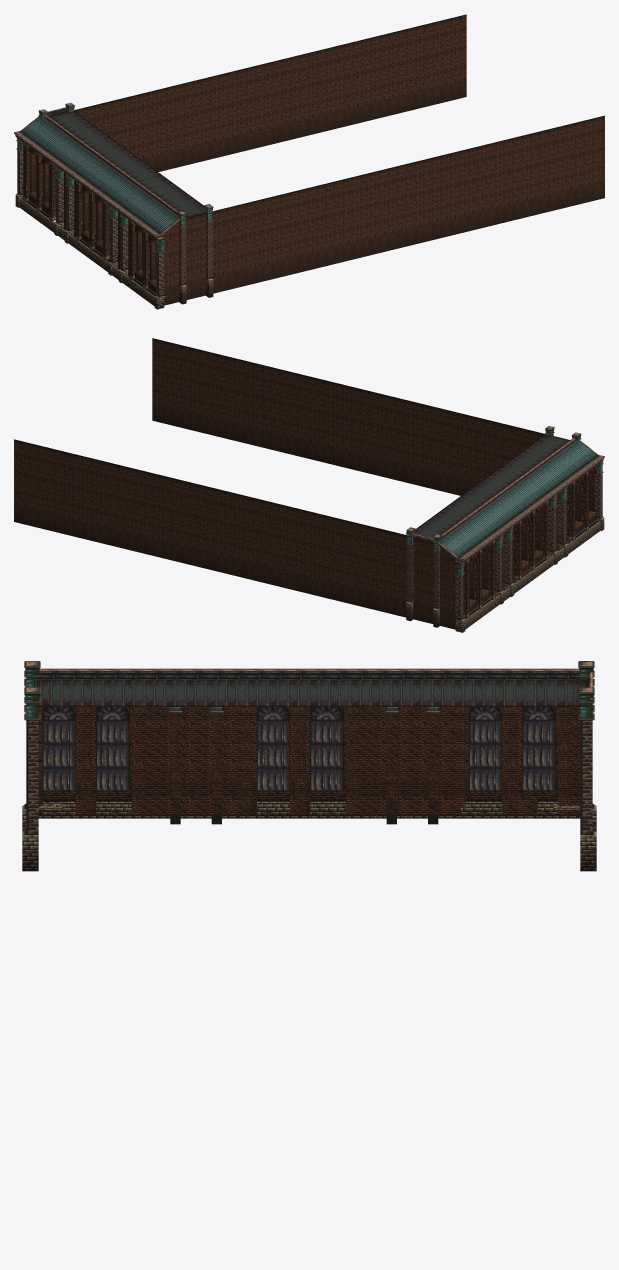
The model's file is EnvBdgMD_Factory_A_Outdoor_RoofTop_C.FBX.
The picture shows the model from 3 angles, top to bottom: view 1: azimuth 30°, elevation 25°; view 2: azimuth 150°, elevation 25°; view 3: azimuth 270°, elevation 25°; orthographic projection. The views are drawn at different scales.
Visible parts, largest first — view 1: EnvBdgMD_Factory_A_Outdoor_RoofTop_C; view 2: EnvBdgMD_Factory_A_Outdoor_RoofTop_C; view 3: EnvBdgMD_Factory_A_Outdoor_RoofTop_C.
Boxes of the visible parts, x1,y1,x2,y2 form: EnvBdgMD_Factory_A_Outdoor_RoofTop_C: [14, 14, 604, 309]; EnvBdgMD_Factory_A_Outdoor_RoofTop_C: [14, 338, 604, 632]; EnvBdgMD_Factory_A_Outdoor_RoofTop_C: [22, 661, 596, 871].
Bounding box in the file's own units: 5060 × 960 × 2790.
